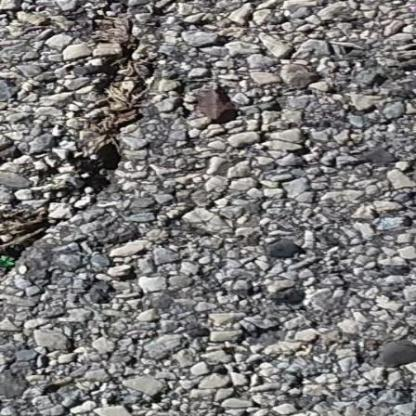Cracks: (0, 0, 176, 290)
